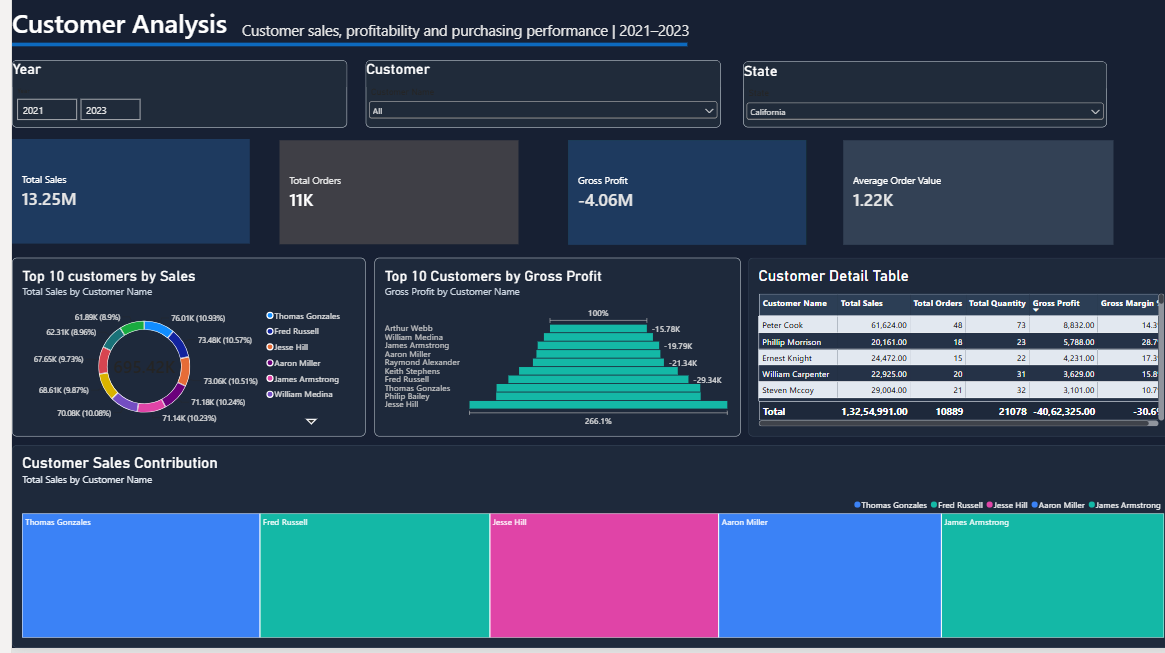

The dashboard page shown, as its layout file describes it:
{"tool":"powerbi","page":{"name":"Customer Analysis","canvas":[1920,1080],"ordinal":3},"visuals":[{"type":"textbox","box":[0,0,703.9,84.4],"z":0},{"type":"textbox","box":[380.8,43.2,963.3,45.3],"z":1000},{"type":"shape","box":[0,8.2,1115.6,150.3],"z":2000},{"type":"slicer","title":"Year","fields":{"Values":["Dim_Date.Year"]},"box":[0,109.1,553.7,111.1],"z":3000},{"type":"slicer","title":"Customer","fields":{"Values":["Customer_Data.Customer Name"]},"box":[584.6,109.1,586.6,111.1],"z":4000},{"type":"slicer","title":"State","fields":{"Values":["Location_Data.State"]},"box":[1208.2,111.1,601,109.1],"z":5000},{"type":"group","id":"g1","title":"Group 1","box":[0,238.8,393.1,172.9],"z":6000},{"type":"group","id":"g2","title":"Group 1","box":[442.5,240.8,393.1,172.9],"z":7000},{"type":"cardVisual","fields":{"Data":["Fact_Sales.Total Sales"]},"box":[0,238.8,393,173],"z":8000,"group":"g1"},{"type":"cardVisual","fields":{"Data":["Fact_Sales.Total Orders"]},"box":[442.5,240.8,393,173],"z":8000,"group":"g2"},{"type":"cardVisual","fields":{"Data":["Fact_Sales.Gross Profit"]},"box":[918,240.8,393,173],"z":8000,"group":"g4"},{"type":"cardVisual","fields":{"Data":["Fact_Sales.Average Order Value"]},"box":[1373.1,241.2,446.7,172.9],"z":8000,"group":"g3"},{"type":"group","id":"g3","title":"Group 1","box":[1373.1,241.2,446.7,172.9],"z":8000},{"type":"donutChart","title":"Top 10 customers by Sales","fields":{"Category":["Customer_Data.Customer Name"],"Y":["Fact_Sales.Total Sales"]},"box":[0,435.7,584.4,295.3],"z":9000},{"type":"funnel","title":"Top 10 Customers by Gross Profit","fields":{"Category":["Customer_Data.Customer Name"],"Y":["Fact_Sales.Gross Profit"]},"box":[598.8,435.7,605,295.3],"z":10000},{"type":"tableEx","title":"Customer Detail Table","fields":{"Values":["Customer_Data.Customer Name","Fact_Sales.Total Sales","Fact_Sales.Total Orders","Fact_Sales.Total Quantity","Fact_Sales.Gross Profit","Fact_Sales.Gross Margin %"]},"box":[1216.3,435.7,704.2,295.3],"z":11000},{"type":"treemap","title":"Customer Sales Contribution","fields":{"Group":["Customer_Data.Customer Name"],"Values":["Fact_Sales.Total Sales"]},"box":[0,745.5,1920.4,334.5],"z":12000},{"type":"group","id":"g4","title":"Group 1","box":[918,240.8,393.1,172.9],"z":13000}]}

Visuals, with their boxes in screenshot pixels (x1, y1, x2, y2), scaled from the page's 1920x1080 canvas onto the 1165x653 screenshot:
textbox: Rect(0, 0, 427, 51)
textbox: Rect(231, 26, 816, 54)
shape: Rect(0, 5, 677, 96)
"Year" slicer: Rect(0, 66, 336, 133)
"Customer" slicer: Rect(355, 66, 711, 133)
"State" slicer: Rect(733, 67, 1098, 133)
"Group 1" group: Rect(0, 144, 239, 249)
"Group 1" group: Rect(268, 146, 507, 250)
cardVisual - Fact_Sales.Total Sales: Rect(0, 144, 238, 249)
cardVisual - Fact_Sales.Total Orders: Rect(268, 146, 507, 250)
cardVisual - Fact_Sales.Gross Profit: Rect(557, 146, 795, 250)
cardVisual - Fact_Sales.Average Order Value: Rect(833, 146, 1104, 250)
"Group 1" group: Rect(833, 146, 1104, 250)
"Top 10 customers by Sales" donutChart: Rect(0, 263, 355, 442)
"Top 10 Customers by Gross Profit" funnel: Rect(363, 263, 730, 442)
"Customer Detail Table" tableEx: Rect(738, 263, 1164, 442)
"Customer Sales Contribution" treemap: Rect(0, 451, 1164, 652)
"Group 1" group: Rect(557, 146, 796, 250)
